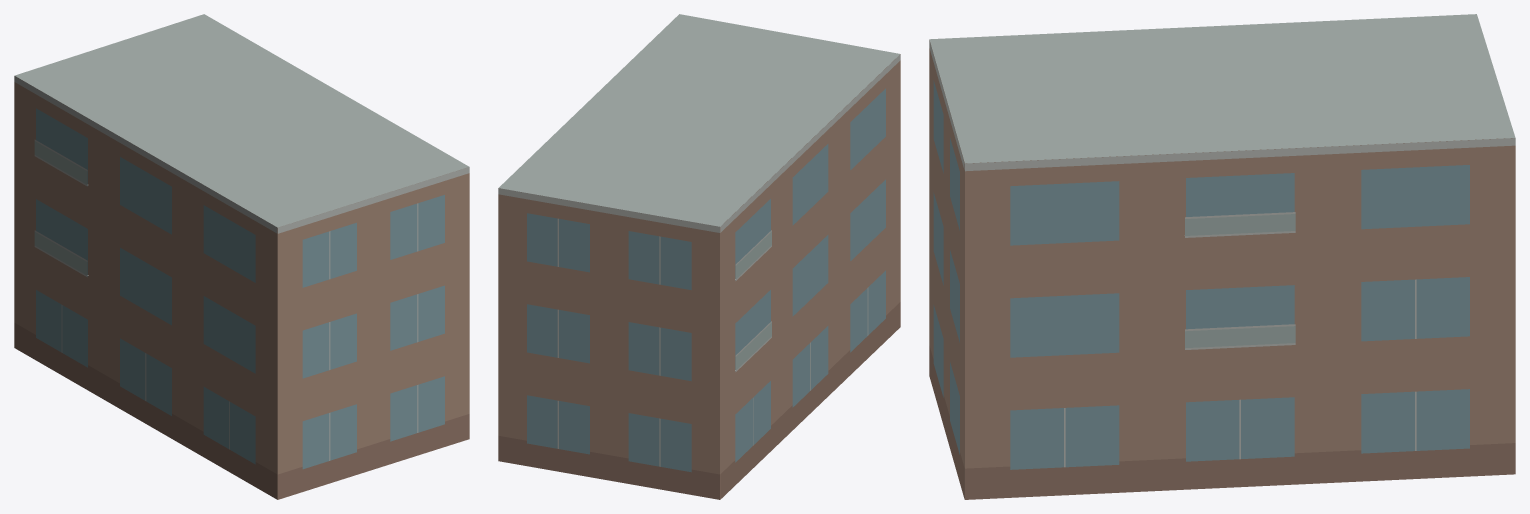
Rendered from survey-upis-32492645.glb.
The picture shows the model from 3 angles, left to right: view 1: azimuth 30°, elevation 25°; view 2: azimuth 150°, elevation 25°; view 3: azimuth 270°, elevation 25°; orthographic projection. The views are drawn at different scales.
Parts seen in each view (by area): view 1: survey-upis-32492645.tmp; view 2: survey-upis-32492645.tmp; view 3: survey-upis-32492645.tmp.
Part boxes in pixels (x1,y1,x2,y2): survey-upis-32492645.tmp: [14, 14, 469, 499]; survey-upis-32492645.tmp: [498, 14, 900, 499]; survey-upis-32492645.tmp: [929, 14, 1515, 499].
Bounding box in the file's own units: 10.11 × 10.6 × 16.75.
